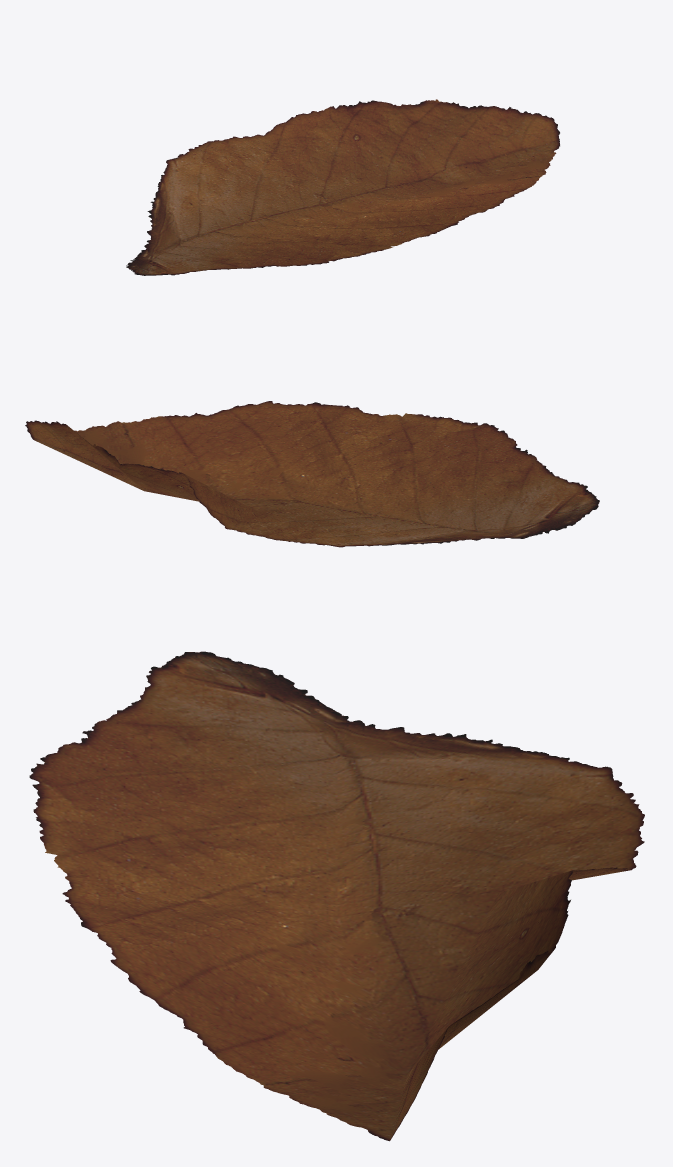
Rendered from SM_SingleDriedLeave_2.fbx.
3 renders of one model, top to bottom at view 1: azimuth 30°, elevation 25°; view 2: azimuth 150°, elevation 25°; view 3: azimuth 270°, elevation 25°, orthographic. The views are drawn at different scales.
Visible parts, largest first — view 1: SM_SingleDriedLeave_2; view 2: SM_SingleDriedLeave_2; view 3: SM_SingleDriedLeave_2.
Part boxes in pixels (left/top/right/bottom): SM_SingleDriedLeave_2: left=126, top=99, right=559, bottom=275; SM_SingleDriedLeave_2: left=25, top=401, right=599, bottom=547; SM_SingleDriedLeave_2: left=29, top=651, right=644, bottom=1141.
Size of the model in its own units: 11.72 by 6.7 by 3.13.
